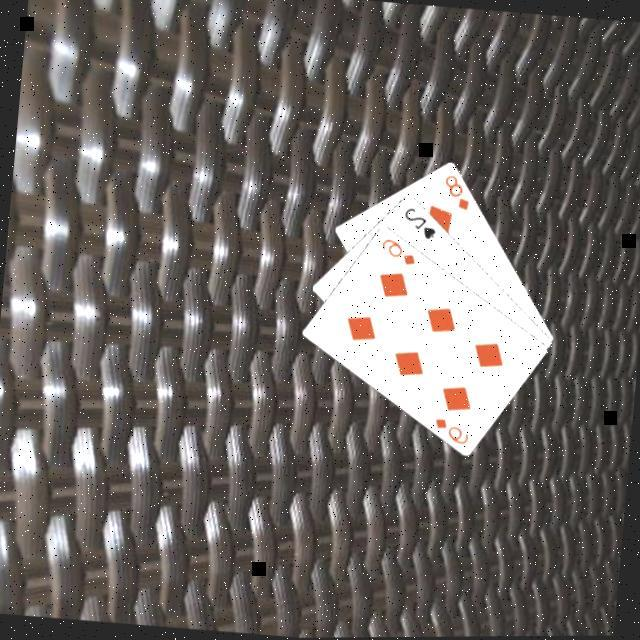2S: (397, 202, 438, 242)
6D: (426, 412, 471, 448), (373, 234, 418, 268)
8D: (437, 170, 472, 212)
